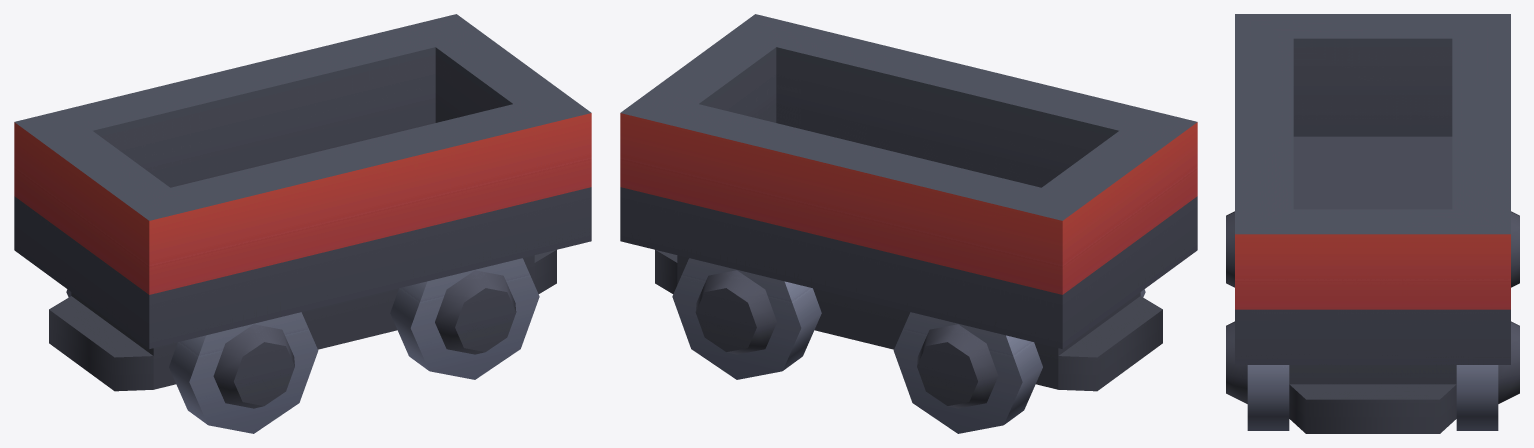
File: train-tender.glb
3 renders of one model, left to right at view 1: azimuth 30°, elevation 25°; view 2: azimuth 150°, elevation 25°; view 3: azimuth 270°, elevation 25°, orthographic. The views are drawn at different scales.
Visible parts, largest first — view 1: train-tender; view 2: train-tender; view 3: train-tender.
Part boxes in pixels (x1=…): train-tender: x1=14, y1=14, x2=591, y2=433; train-tender: x1=620, y1=14, x2=1197, y2=433; train-tender: x1=1226, y1=14, x2=1519, y2=433.
Size of the model in its own units: 0.3457 by 0.1826 by 0.195.
Materials: 1 (1 with a texture image).
